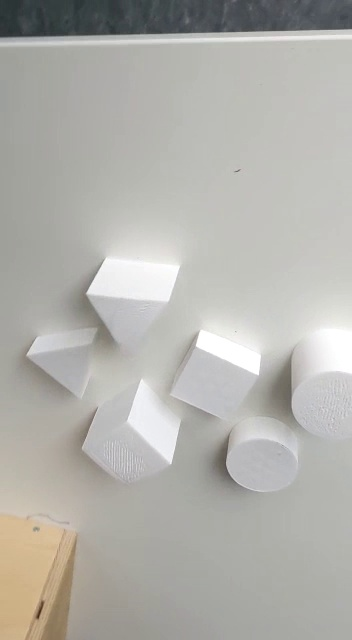Clyinder_short: (218, 414, 302, 498)
Cube: (77, 379, 182, 487)
Cube_short: (165, 330, 267, 423)
Cylinder: (288, 323, 352, 442)
Triangle: (84, 251, 182, 358)
Triangle_short: (27, 326, 98, 409)
